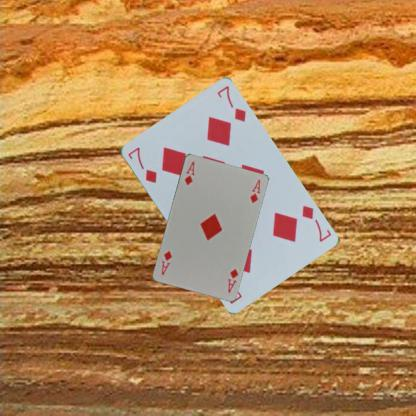7d: (298, 202, 332, 243), (125, 144, 158, 185)
Ad: (181, 158, 196, 187), (225, 266, 239, 293)
